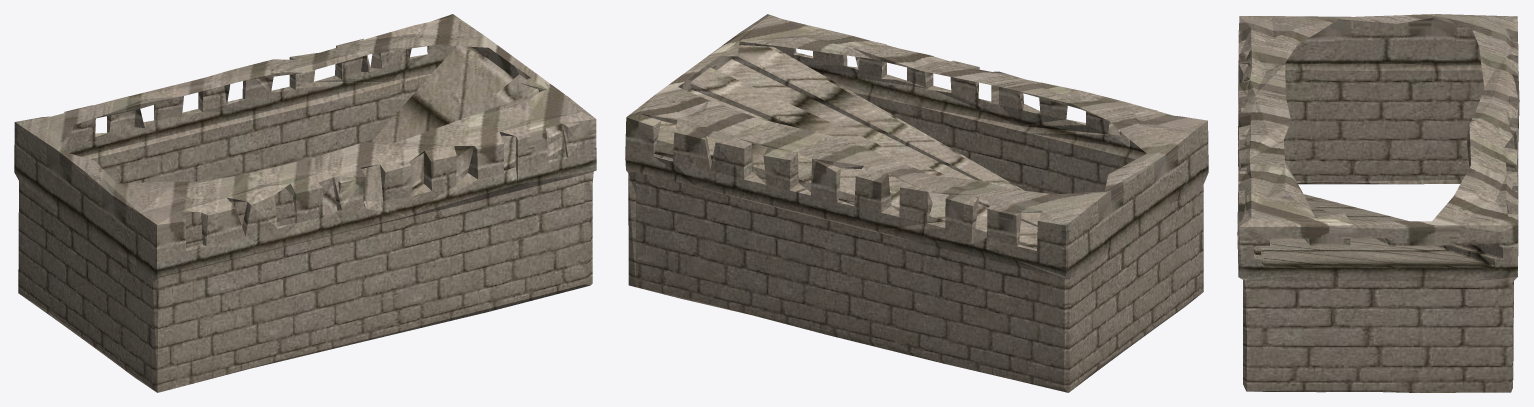
The model's file is wall.glb.
The picture shows the model from 3 angles, left to right: view 1: azimuth 30°, elevation 25°; view 2: azimuth 150°, elevation 25°; view 3: azimuth 270°, elevation 25°; orthographic projection. The views are drawn at different scales.
Parts seen in each view (by area): view 1: geometry_0; view 2: geometry_0; view 3: geometry_0.
Boxes of the visible parts, x1,y1,x2,y2 form: geometry_0: [14, 14, 596, 392]; geometry_0: [625, 14, 1208, 392]; geometry_0: [1237, 14, 1519, 392].
Size of the model in its own units: 12 by 4.69 by 6.77.
Materials: 1 (1 with a texture image).
